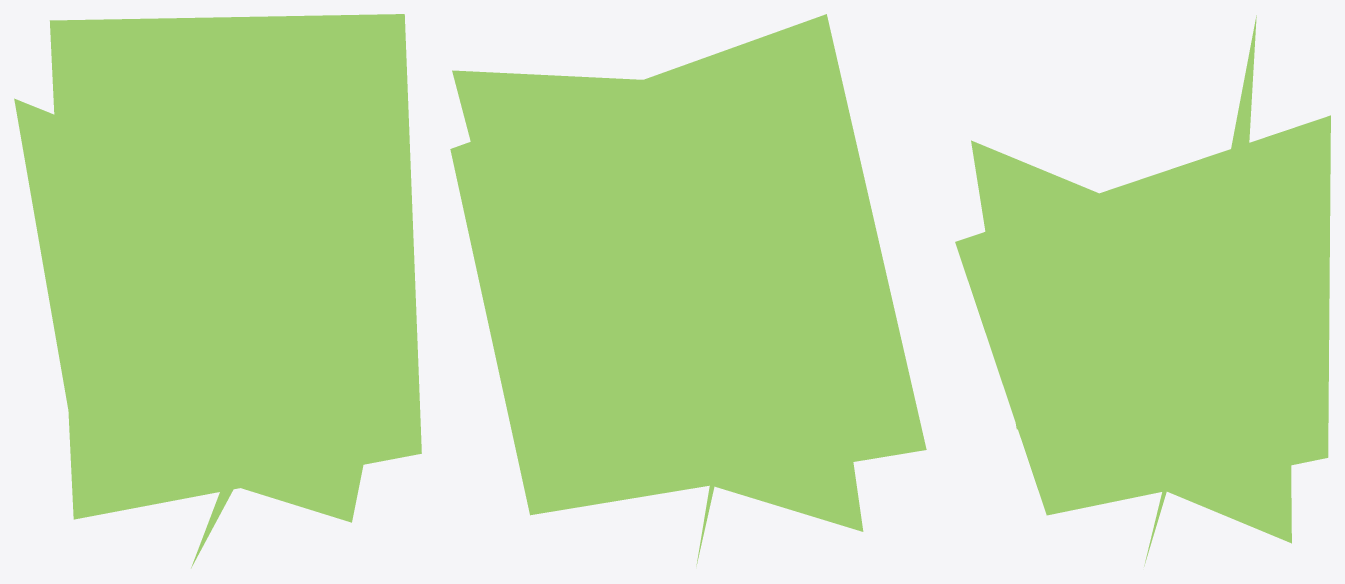
Rendered from Grass.fbx.
3 renders of one model, left to right at view 1: azimuth 30°, elevation 25°; view 2: azimuth 150°, elevation 25°; view 3: azimuth 270°, elevation 25°, orthographic. The views are drawn at different scales.
Parts seen in each view (by area): view 1: Grass_1; view 2: Grass_1; view 3: Grass_1.
Boxes of the visible parts, x1,y1,x2,y2 form: Grass_1: (14,14,421,568); Grass_1: (450,14,926,566); Grass_1: (955,15,1330,566).
Bounding box in the file's own units: 2 × 2.42 × 1.96.
